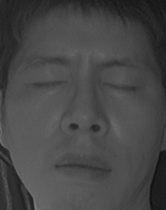blink: (100, 73, 140, 100), (27, 72, 69, 96)
mouth: (51, 144, 115, 185)
